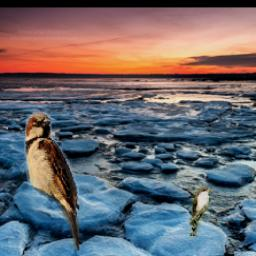Cuckoo: (189, 185, 210, 238)
Swallow: (24, 112, 80, 251)
